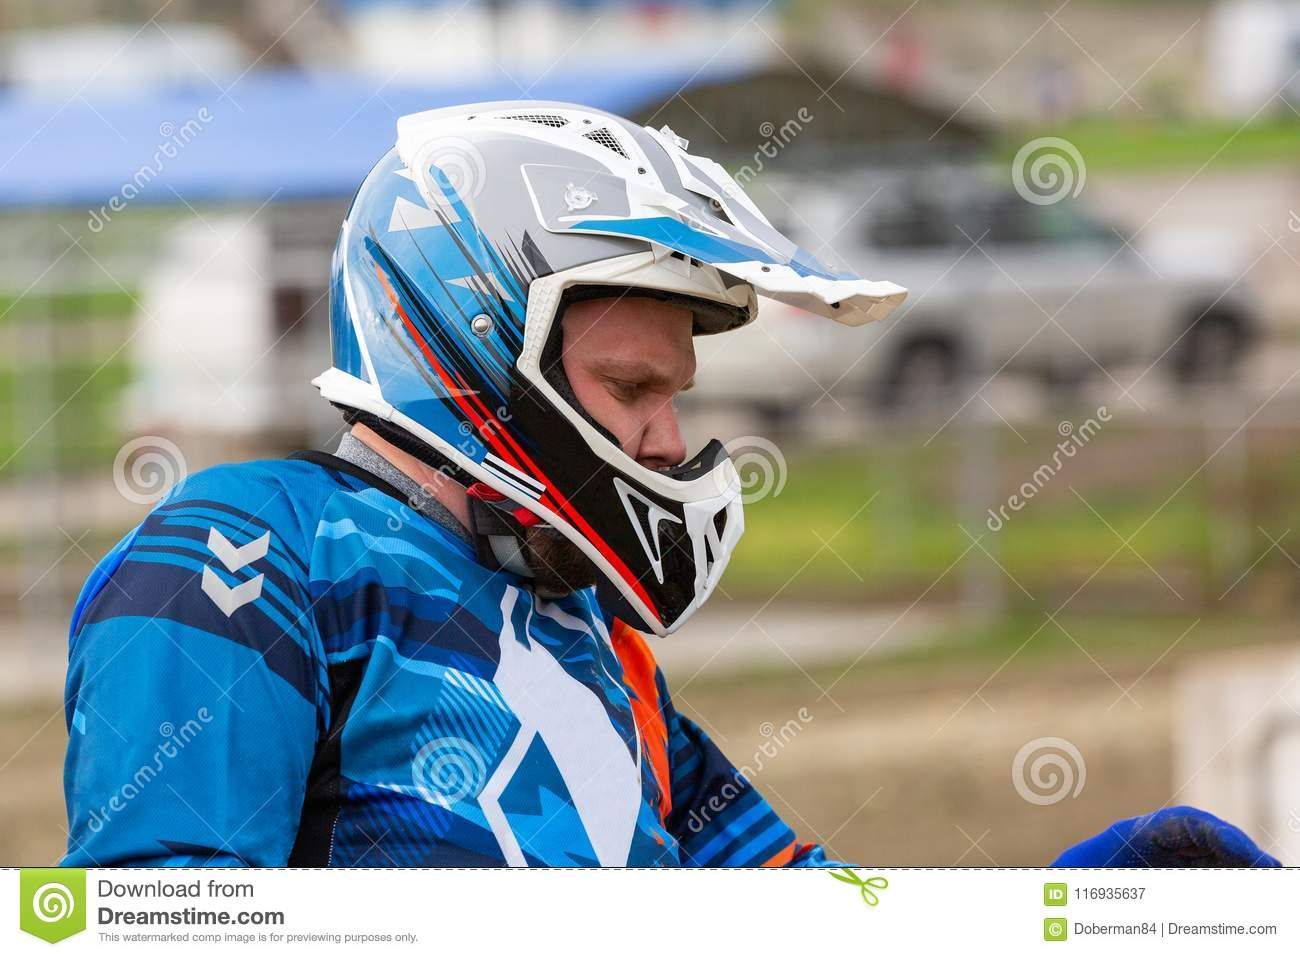helmet: (319, 118, 826, 614)
